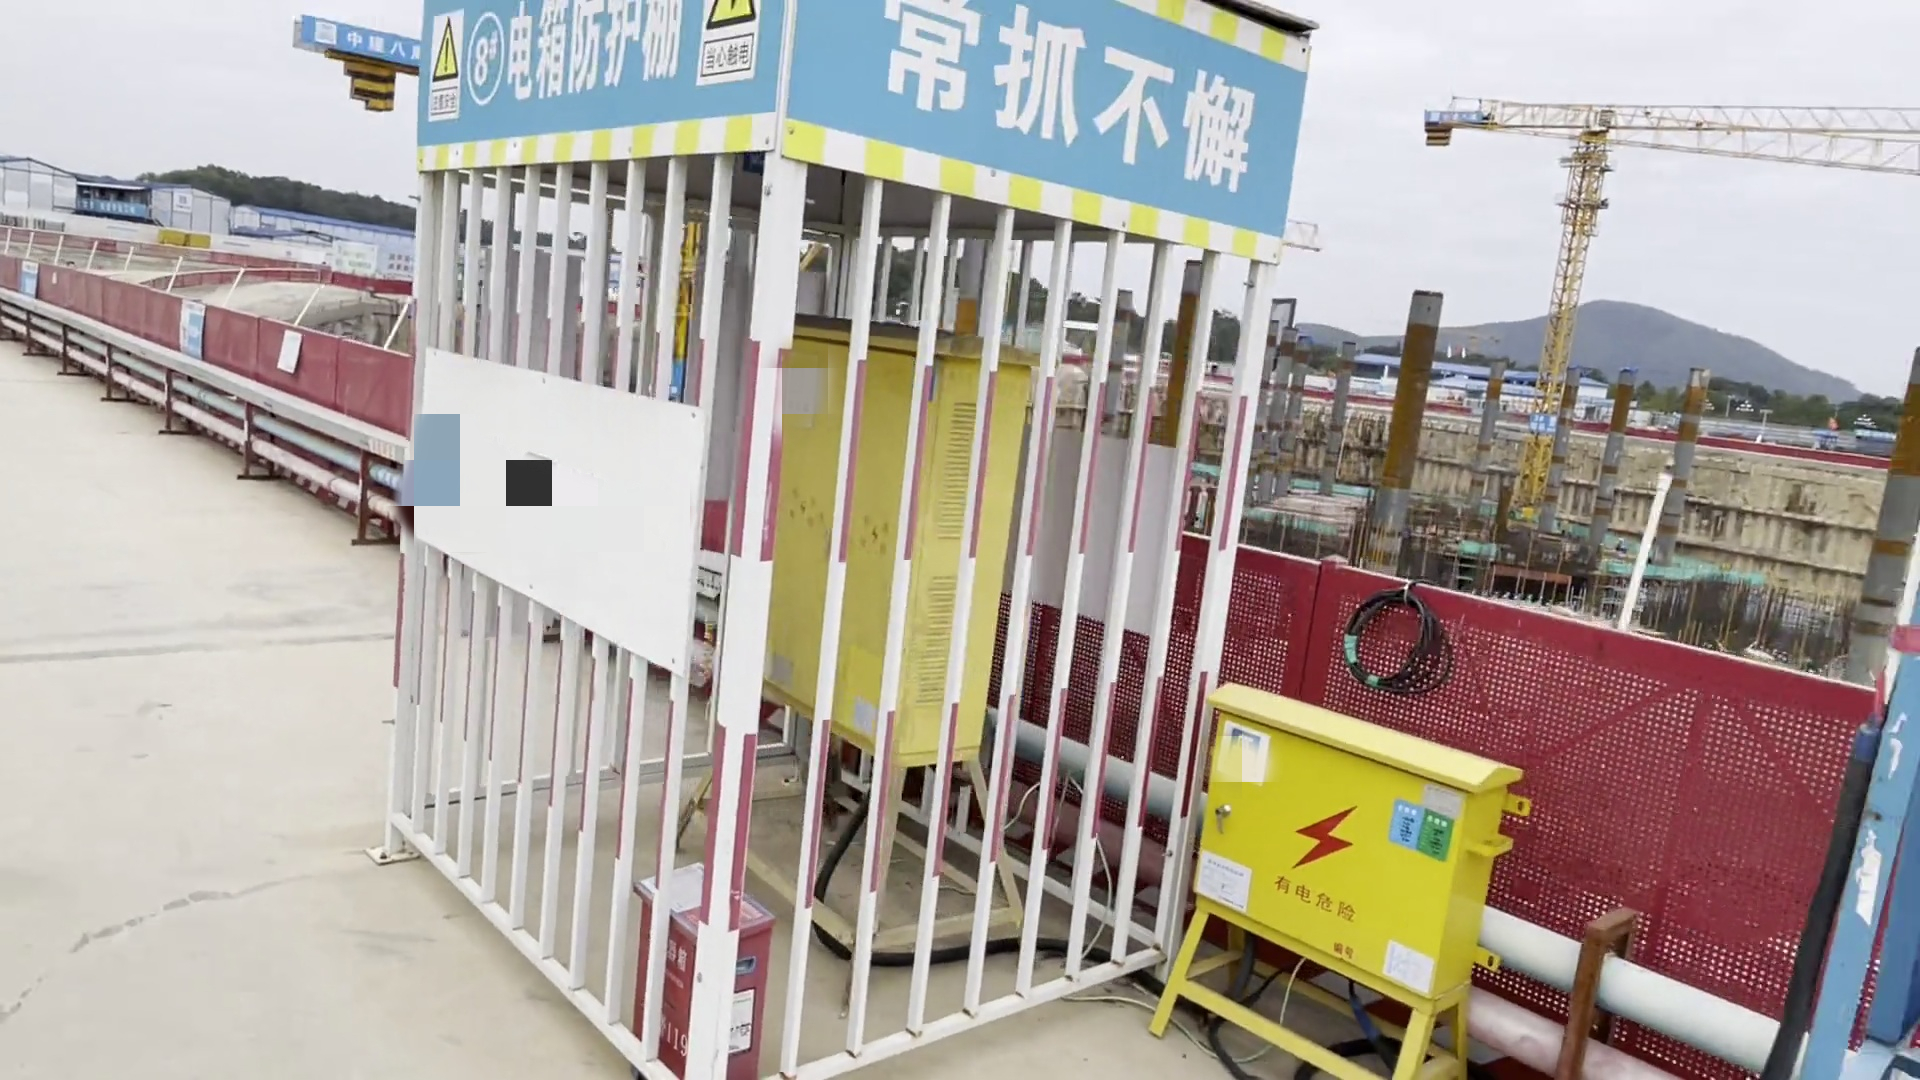ebox: (735, 256, 1040, 992), (1167, 653, 1482, 1080)
slogan: (808, 7, 1338, 211)
